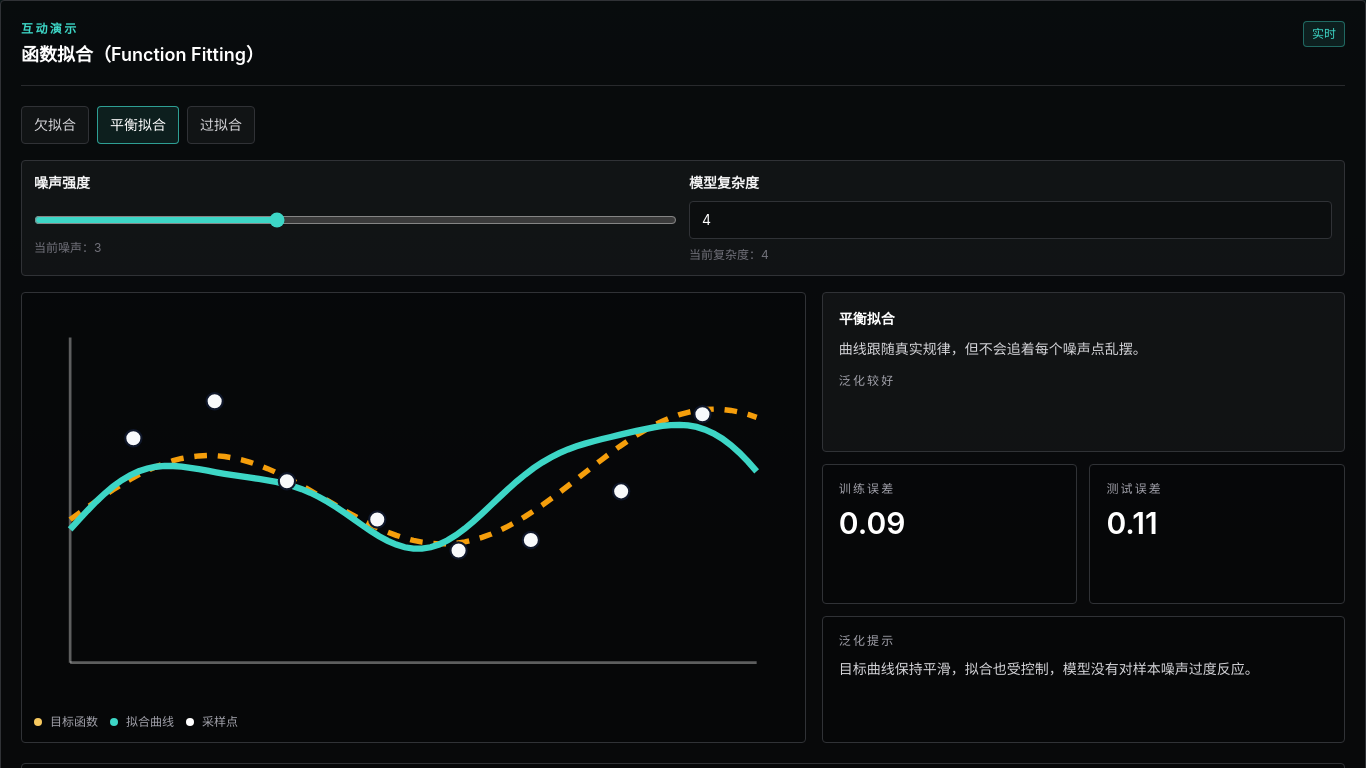
Test: FunctionFittingDemo › shows lower train error but worse test error for the overfit mode
Click the button "过拟合" at (221, 125), box 187,106 -> 255,144
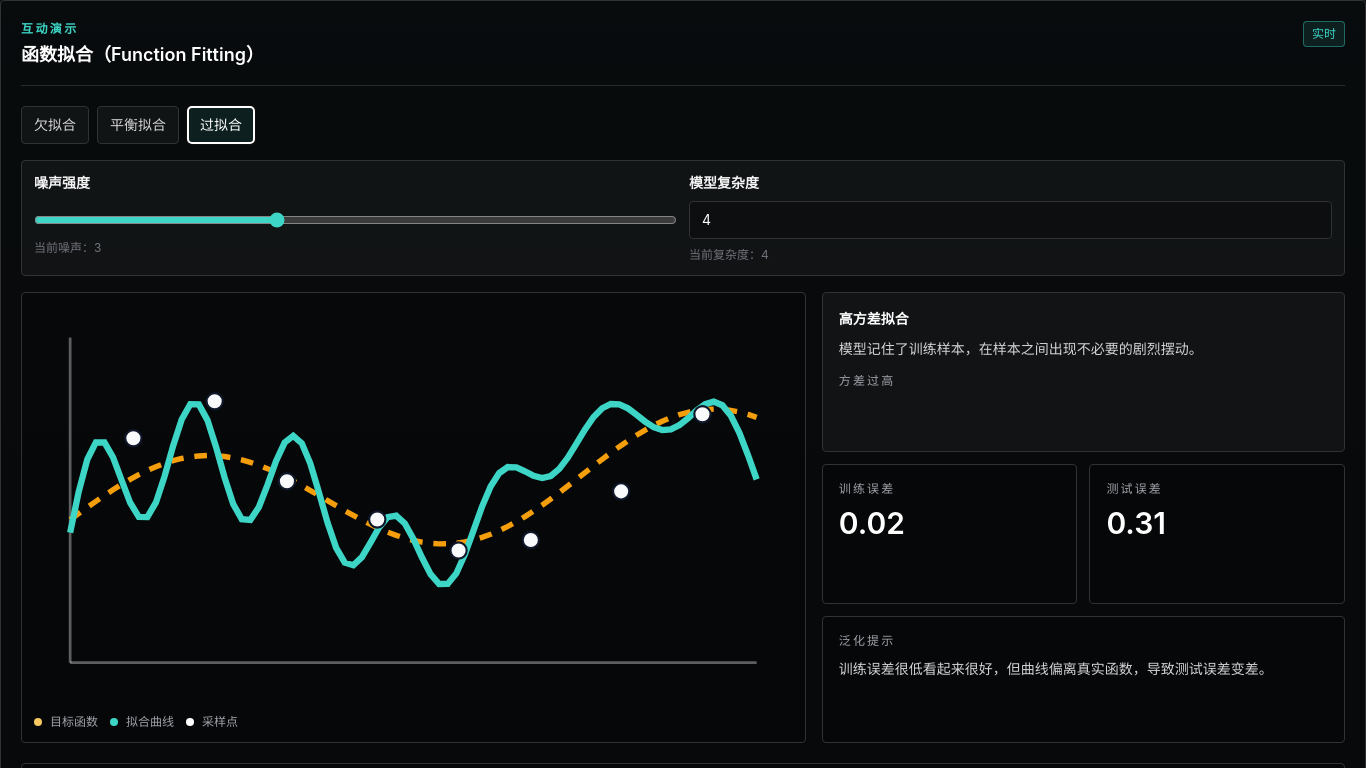
Expected: the text "训练误差很低看起来很好，但曲线偏离真实函数，导致测试误差变差。" is shown, 839,657 -> 1328,681
Expected: the text "高方差拟合" is shown, 839,310 -> 909,327
